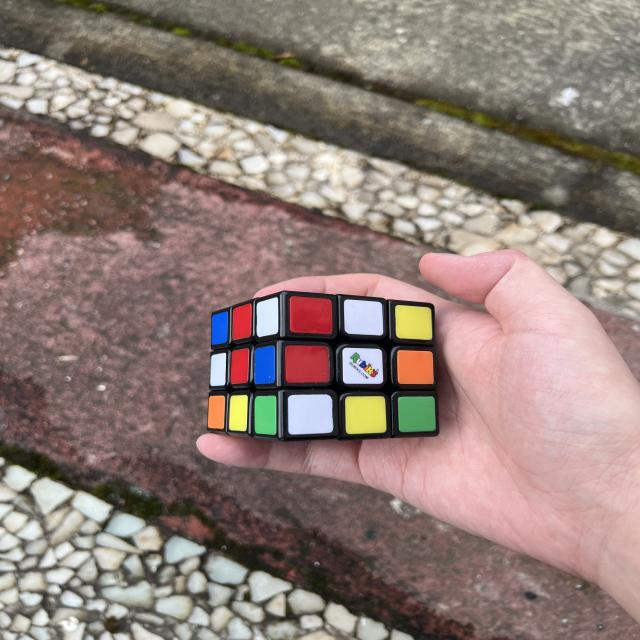blue: (254, 345, 276, 385), (211, 310, 229, 346)
center: (341, 347, 384, 385), (230, 348, 250, 385)
green: (397, 395, 436, 433), (254, 395, 277, 436)
orange: (396, 349, 435, 386), (207, 394, 227, 430)
red: (287, 296, 335, 336), (284, 344, 330, 384), (231, 302, 253, 341)
white: (286, 390, 334, 436), (342, 299, 384, 336), (256, 297, 278, 337), (210, 352, 227, 387)
yellow: (345, 395, 386, 434), (394, 305, 433, 340), (228, 394, 249, 432)
